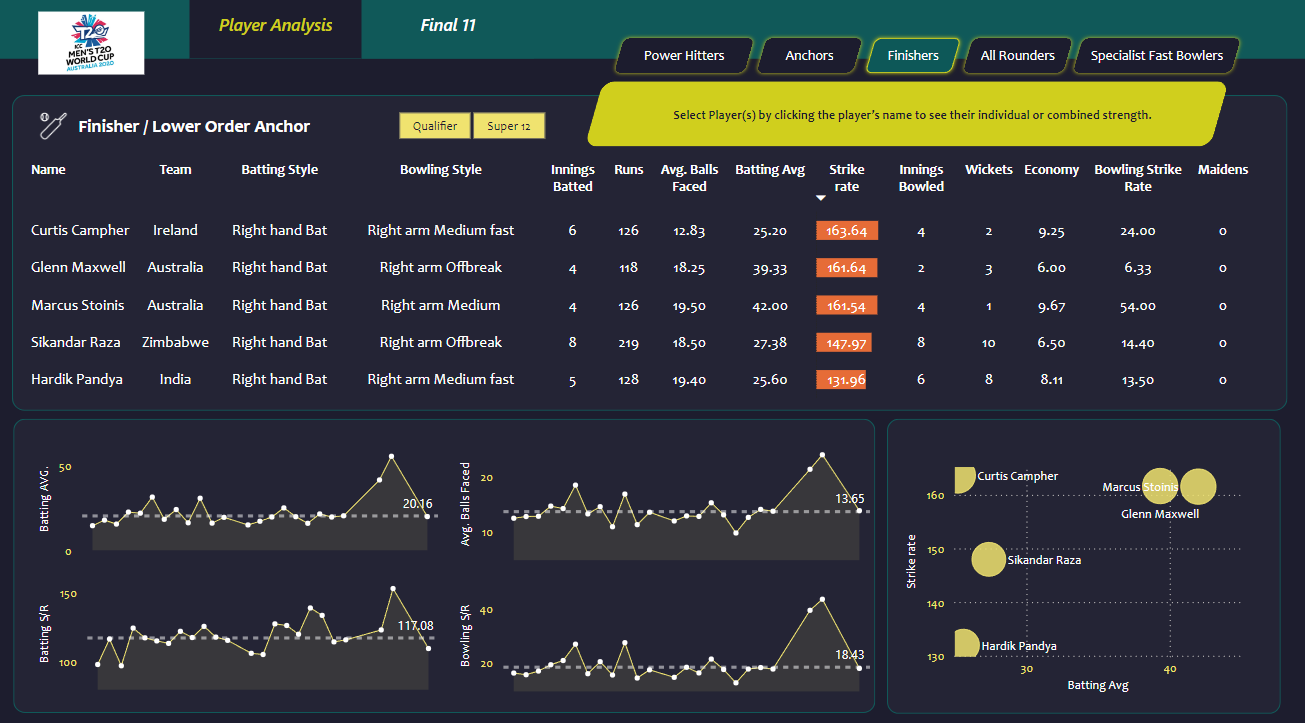

The dashboard page shown, as its layout file describes it:
{"tool":"powerbi","page":{"name":"New Finisher / Lower Order Anchor","canvas":[1280,720],"ordinal":2},"visuals":[{"type":"shape","box":[0,66,1280,654],"z":0},{"type":"card","fields":{"Values":["Key_Measures.Strike rate"]},"box":[867,89,93,60],"z":0,"group":"g2"},{"type":"shape","box":[83.7,116.2,260,31.2],"z":0,"group":"g1"},{"type":"card","fields":{"Values":["Key_Measures.Bat Avg"]},"box":[768,89,92,60],"z":1000,"group":"g2"},{"type":"image","box":[37.5,113.8,44,36],"z":1000,"group":"g1"},{"type":"shape","box":[20,414,832,284],"z":1000},{"type":"actionButton","box":[734,42.6,111,42],"z":2000},{"type":"card","fields":{"Values":["Key_Measures.Bowling Strike Rate"]},"box":[1073,89,100,60],"z":2000,"group":"g2"},{"type":"actionButton","box":[596,42.6,144,42],"z":3000},{"type":"card","fields":{"Values":["Key_Measures.Avergate Balls Faced"]},"box":[966,89,101,60],"z":3000,"group":"g2"},{"type":"actionButton","box":[838,42.6,101,42],"z":4000},{"type":"actionButton","box":[932,42.6,115,42],"z":5000},{"type":"actionButton","box":[1039,42.6,171,42],"z":6000},{"type":"areaChart","fields":{"Category":["dim_match_summary.Match_Date.Variation.Date Hierarchy.Day"],"Y":["Key_Measures.Avergate Balls Faced"]},"box":[446,430,406,126],"z":9000},{"type":"areaChart","fields":{"Category":["dim_match_summary.Match_Date.Variation.Date Hierarchy.Day"],"Y":["Key_Measures.Bowling Strike Rate"]},"box":[446,556,406,126],"z":11000},{"type":"areaChart","fields":{"Category":["dim_match_summary.Match_Date.Variation.Date Hierarchy.Day"],"Y":["Key_Measures.Bat Avg"]},"box":[40,428.9,395.6,126.7],"z":12000},{"type":"areaChart","fields":{"Category":["dim_match_summary.Match_Date.Variation.Date Hierarchy.Day"],"Y":["Key_Measures.Strike rate"]},"box":[40,555.6,396.7,125.6],"z":13000},{"type":"shape","box":[19.6,101.9,1231,304.8],"z":14000},{"type":"group","id":"g1","title":"Group 2","box":[37.5,113.8,306.2,36],"z":15000},{"type":"slicer","fields":{"Values":["dim_match_summary.stage"]},"box":[366.7,111.1,191.1,38.9],"z":16000},{"type":"tableEx","fields":{"Values":["dim_player.name","Min(dim_player.team)","Min(dim_player.Batting Style)","Min(dim_player.Bowling Style)","Key_Measures.Total Innings Batted","Key_Measures.Total Runs","Key_Measures.Avergate Balls Faced","Key_Measures.Bat Avg","Key_Measures.Strike rate","Key_Measures.Total Innings Bowled","Key_Measures.wickets","Key_Measures.Economy"]},"box":[26.5,150.9,1224.1,254.8],"z":17000},{"type":"shape","box":[572,88,622,63],"z":18000},{"type":"shape","box":[591,103,173,34],"z":19000},{"type":"group","id":"g2","title":"Combined Perfoamce Metrices","box":[768,89,405,60],"z":20000},{"type":"actionButton","title":"Button Player Ana selected","box":[191,0,166,66],"z":22000},{"type":"actionButton","title":"Button Player Ana selected","box":[357,0,166,66],"z":23000},{"type":"shape","box":[608.6,102.9,560.6,36.3],"z":23501},{"type":"shape","box":[863.7,414.3,380,284.8],"z":24001},{"type":"scatterChart","fields":{"Y":["Key_Measures.Strike rate"],"Category":["dim_player.name"],"X":["Key_Measures.Bat Avg"],"Size":["Key_Measures.Strike rate"]},"box":[877.1,447.3,340.9,235.5],"z":24501},{"type":"image","box":[40.2,0,112.4,102.6],"z":24502}]}

Visuals, with their boxes in screenshot pixels (x1, y1, x2, y2), scaled from the page's 1280x720 canvas onto the 1305x723 screenshot:
shape: left=0, top=66, right=1304, bottom=722
card - Key_Measures.Strike rate: left=884, top=89, right=979, bottom=150
shape: left=85, top=117, right=350, bottom=148
card - Key_Measures.Bat Avg: left=783, top=89, right=877, bottom=150
image: left=38, top=114, right=83, bottom=150
shape: left=20, top=416, right=869, bottom=701
actionButton: left=748, top=43, right=862, bottom=85
card - Key_Measures.Bowling Strike Rate: left=1094, top=89, right=1196, bottom=150
actionButton: left=608, top=43, right=754, bottom=85
card - Key_Measures.Avergate Balls Faced: left=985, top=89, right=1088, bottom=150
actionButton: left=854, top=43, right=957, bottom=85
actionButton: left=950, top=43, right=1067, bottom=85
actionButton: left=1059, top=43, right=1234, bottom=85
areaChart - dim_match_summary.Match_Date.Variation.Date Hierarchy.Day x Key_Measures.Avergate Balls Faced: left=455, top=432, right=869, bottom=558
areaChart - dim_match_summary.Match_Date.Variation.Date Hierarchy.Day x Key_Measures.Bowling Strike Rate: left=455, top=558, right=869, bottom=685
areaChart - dim_match_summary.Match_Date.Variation.Date Hierarchy.Day x Key_Measures.Bat Avg: left=41, top=431, right=444, bottom=558
areaChart - dim_match_summary.Match_Date.Variation.Date Hierarchy.Day x Key_Measures.Strike rate: left=41, top=558, right=445, bottom=684
shape: left=20, top=102, right=1275, bottom=408
"Group 2" group: left=38, top=114, right=350, bottom=150
slicer - dim_match_summary.stage: left=374, top=112, right=569, bottom=151
tableEx - dim_player.name x Min(dim_player.team): left=27, top=152, right=1275, bottom=407
shape: left=583, top=88, right=1217, bottom=152
shape: left=603, top=103, right=779, bottom=138
"Combined Perfoamce Metrices" group: left=783, top=89, right=1196, bottom=150
"Button Player Ana selected" actionButton: left=195, top=0, right=364, bottom=66
"Button Player Ana selected" actionButton: left=364, top=0, right=533, bottom=66
shape: left=620, top=103, right=1192, bottom=140
shape: left=881, top=416, right=1268, bottom=702
scatterChart - Key_Measures.Strike rate x dim_player.name: left=894, top=449, right=1242, bottom=686
image: left=41, top=0, right=156, bottom=103
